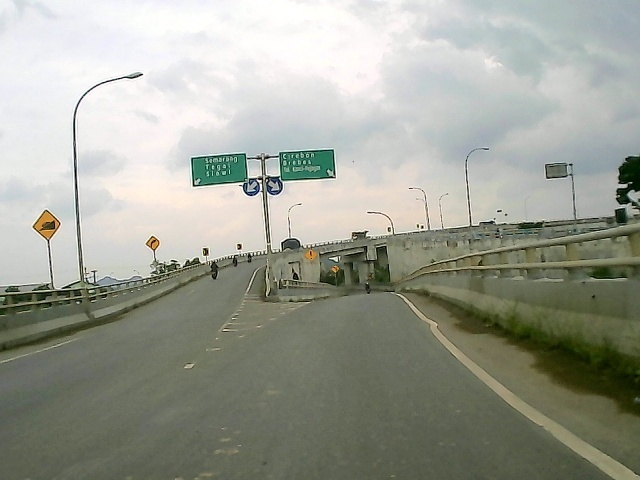Hati-hati: (304, 248, 317, 264)
Jalanan menanjak: (28, 209, 66, 241)
Tikungan ke kanan: (144, 234, 159, 253)
